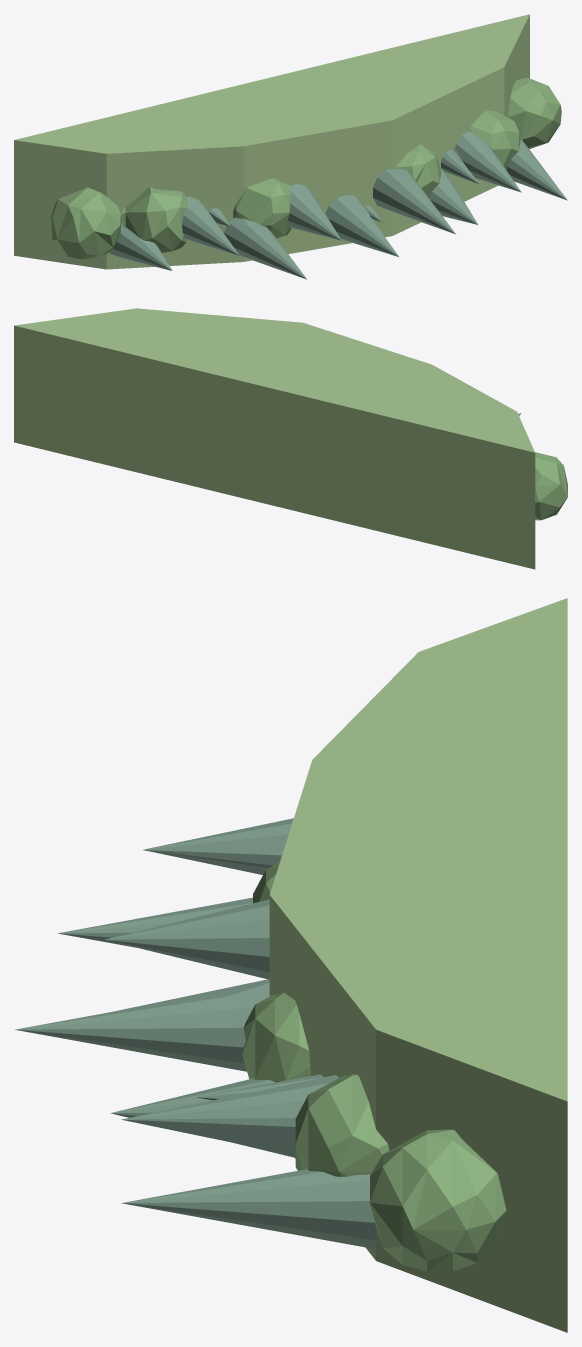
Rendered from r-13-prygl-wooded-ridge.lod1.glb.
3 views of the same model, one above another, from view 1: azimuth 30°, elevation 25°; view 2: azimuth 150°, elevation 25°; view 3: azimuth 270°, elevation 25° (orthographic). The views are drawn at different scales.
Parts seen in each view (by area): view 1: hill, pines, broadleaf; view 2: hill, broadleaf; view 3: hill, pines, broadleaf.
Part boxes in pixels (bbox=[...]): hill: bbox=[14, 14, 529, 269]; pines: bbox=[109, 131, 567, 279]; broadleaf: bbox=[50, 77, 561, 259]; hill: bbox=[14, 308, 535, 569]; broadleaf: bbox=[535, 452, 567, 520]; hill: bbox=[269, 598, 567, 1332]; pines: bbox=[15, 818, 375, 1249]; broadleaf: bbox=[242, 862, 506, 1271].
Bounding box in the file's own units: 56000 × 11997 × 26001.
